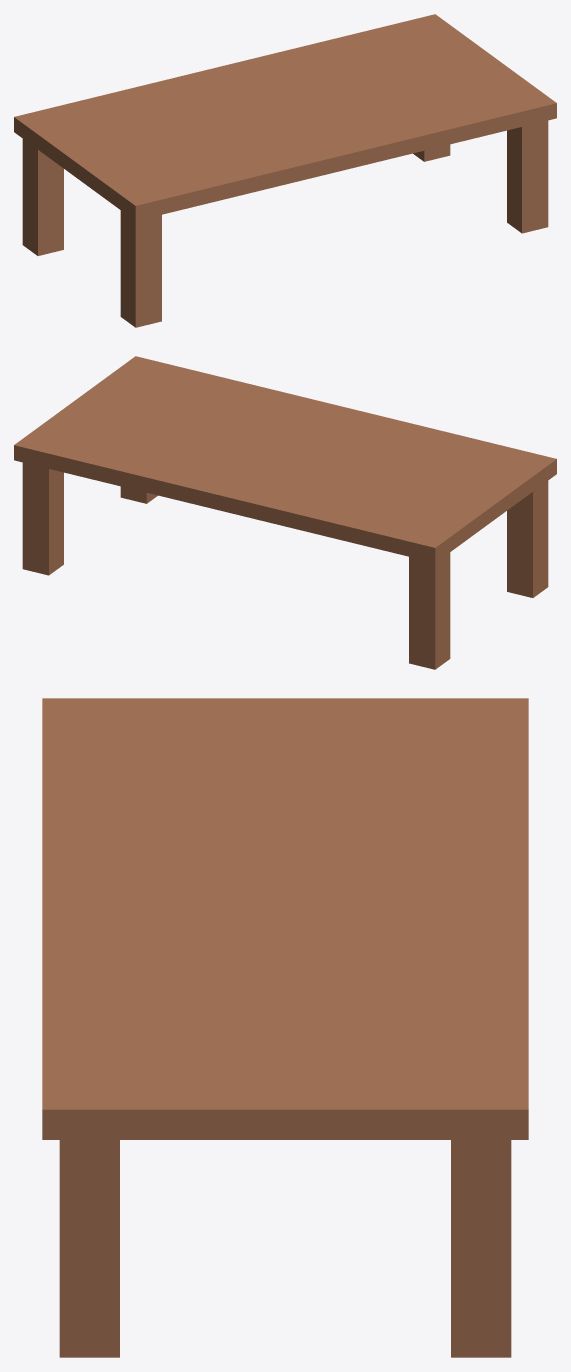
The model's file is Table02.fbx.
3 views of the same model, one above another, from view 1: azimuth 30°, elevation 25°; view 2: azimuth 150°, elevation 25°; view 3: azimuth 270°, elevation 25° (orthographic). The views are drawn at different scales.
Parts seen in each view (by area): view 1: Table02; view 2: Table02; view 3: Table02.
Boxes of the visible parts, x1,y1,x2,y2 form: Table02: (14,14,556,327); Table02: (14,356,556,669); Table02: (42,698,528,1357).
Bounding box in the file's own units: 4 × 2 × 1.14.
